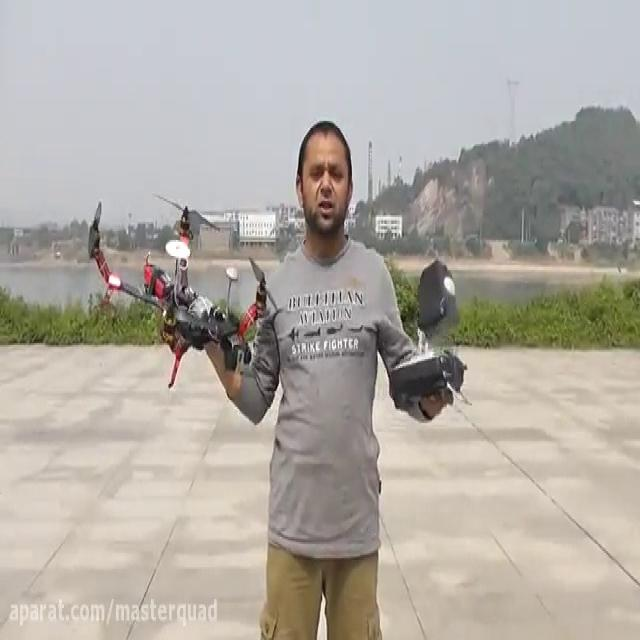drone: (85, 190, 280, 388)
